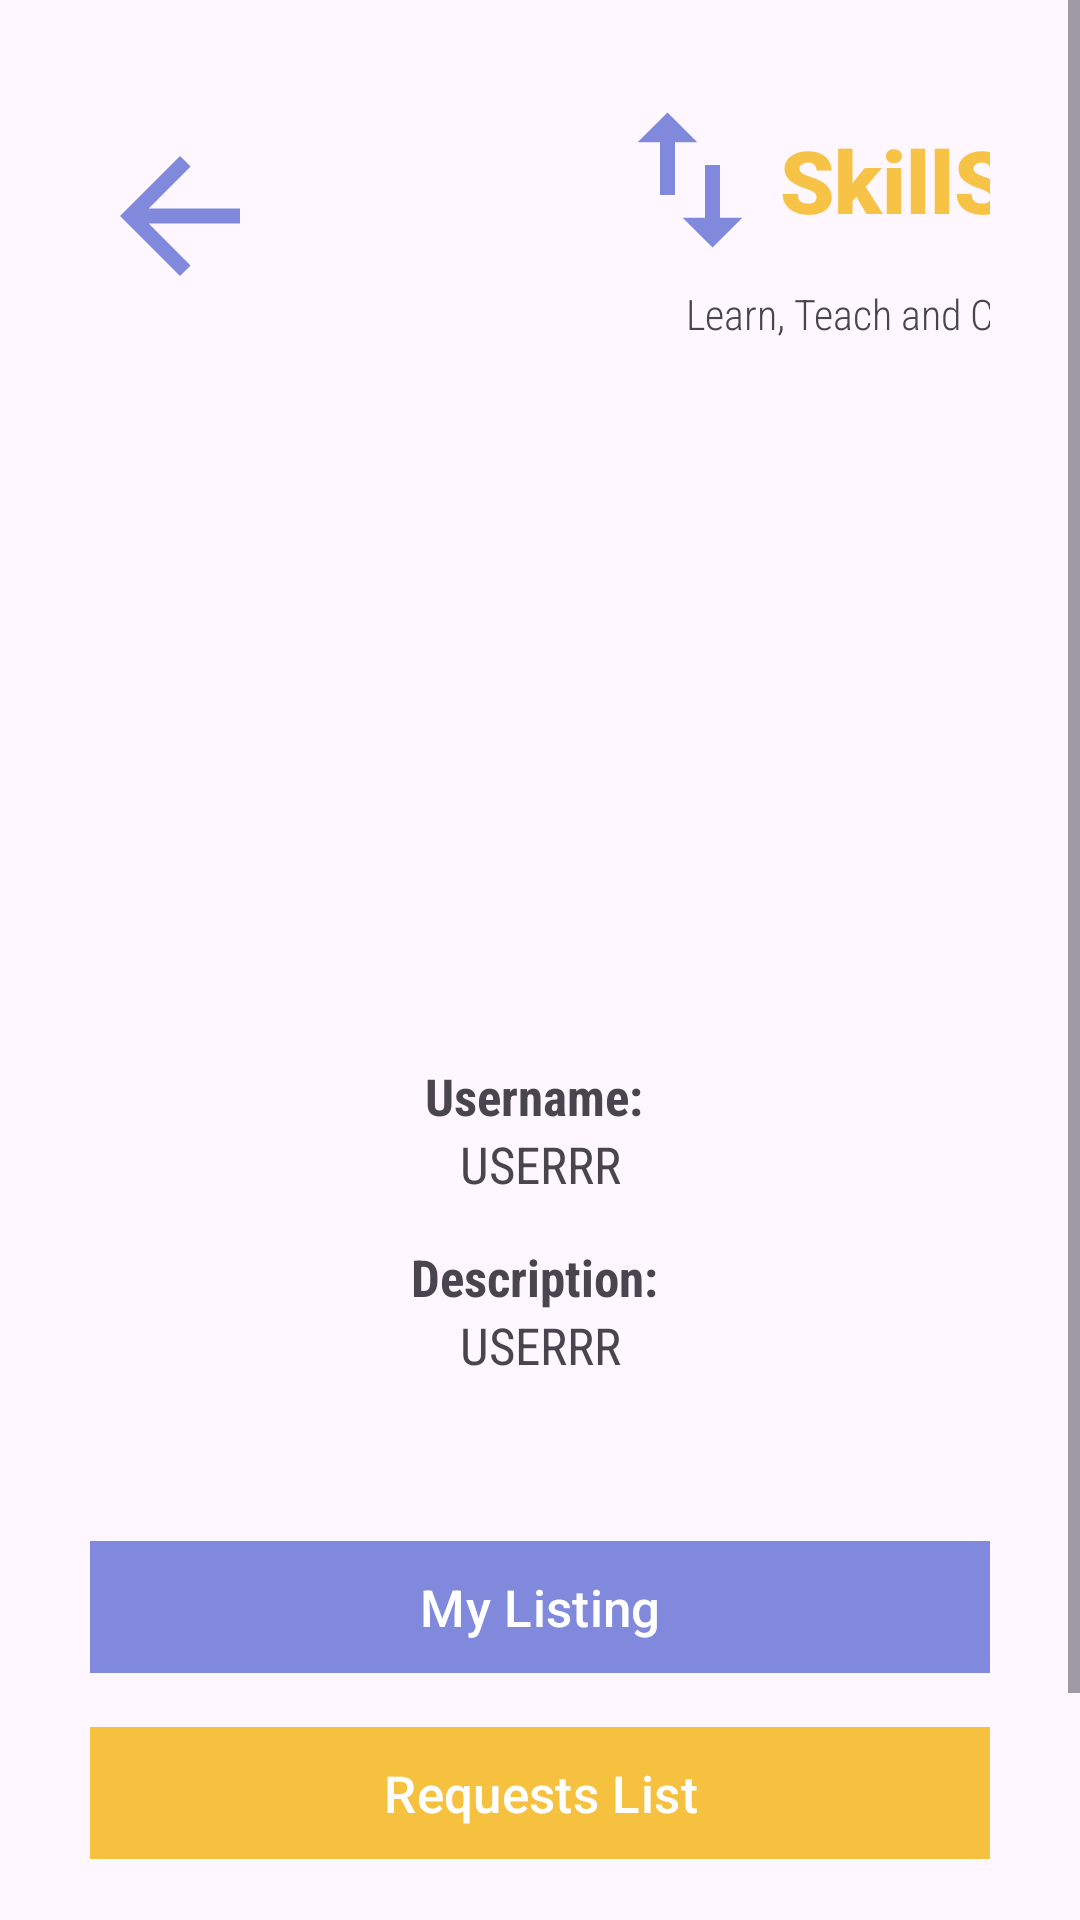

Named icons in this screenshot (1080x1920) and their centers, [x,y]:
arrow back: [180,216]
swap vert: [690,180]
